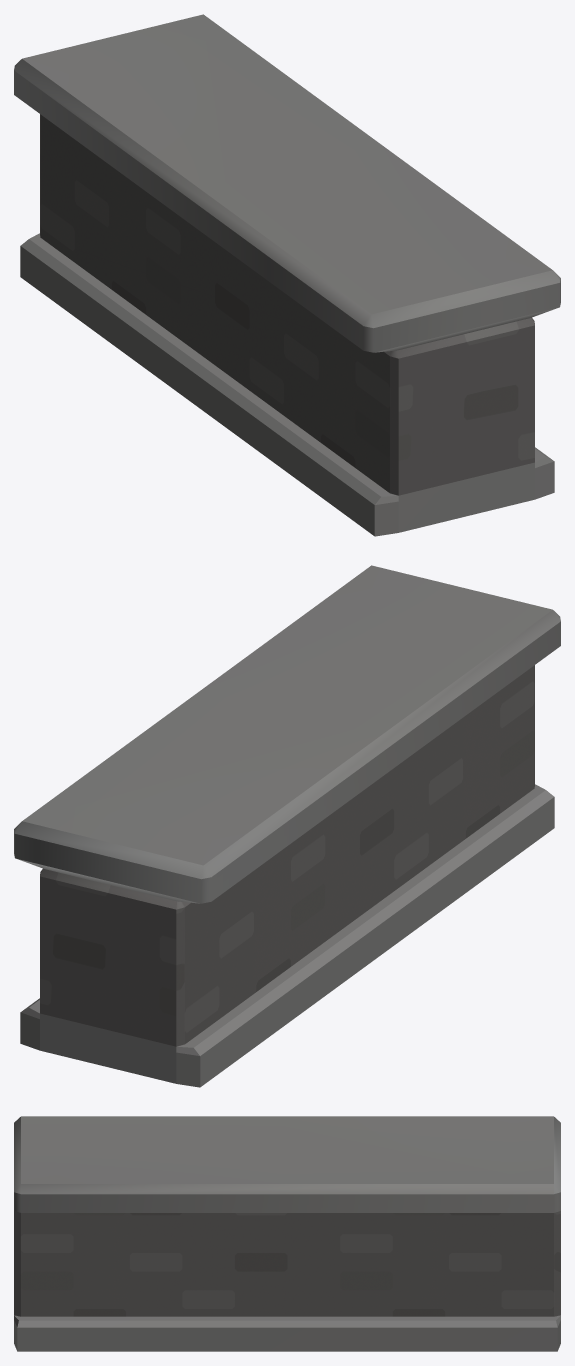
Rendered from BrickWall_1_2.glb.
3 renders of one model, top to bottom at view 1: azimuth 30°, elevation 25°; view 2: azimuth 150°, elevation 25°; view 3: azimuth 270°, elevation 25°, orthographic. The views are drawn at different scales.
Parts seen in each view (by area): view 1: BrickWall_1_2; view 2: BrickWall_1_2; view 3: BrickWall_1_2.
Boxes of the visible parts, x1=… form: BrickWall_1_2: x1=14, y1=14, x2=560, y2=536; BrickWall_1_2: x1=14, y1=565, x2=560, y2=1087; BrickWall_1_2: x1=14, y1=1116, x2=560, y2=1351.
Size of the model in its own units: 0.6357 by 0.6783 by 2.
2 materials, 2 textured.
